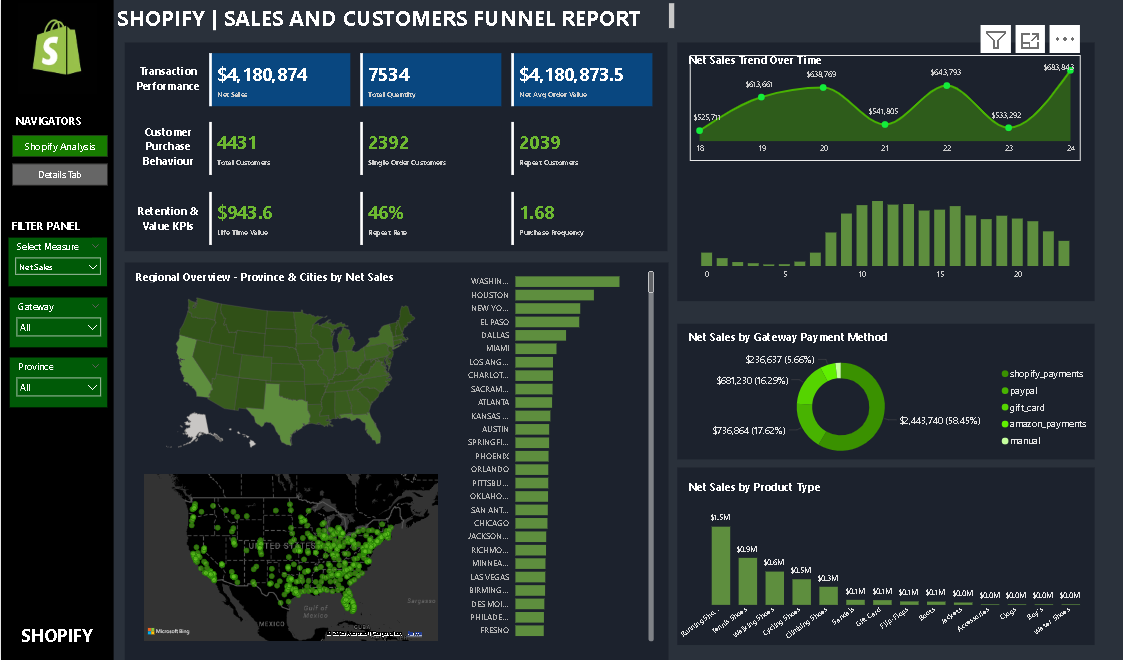

This screenshot's page, from the dashboard's own definition file:
{"tool":"powerbi","page":{"name":"Shopify Analysis","canvas":[1700,1000],"ordinal":0},"visuals":[{"type":"shape","box":[0,0,170,1000.5],"z":0},{"type":"textbox","box":[169.2,0,851.2,50.3],"z":1000},{"type":"shape","box":[186,63.7,819.4,315],"z":2000},{"type":"cardVisual","fields":{"Data":["shopify_sales.Net Sales","shopify_sales.Total Quantity","shopify_sales.Net Avg Order Value"]},"box":[310,75.4,680.3,90.5],"z":3000},{"type":"cardVisual","fields":{"Data":["shopify_sales.Transaction Perf"]},"box":[186,63.7,132.4,98.9],"z":4000},{"type":"cardVisual","fields":{"Data":["shopify_sales.Total Customers","shopify_sales.Single Order Customers","shopify_sales.Repeat Customers"]},"box":[310,180.1,680.3,90.5],"z":5000},{"type":"cardVisual","fields":{"Data":["shopify_sales.Customer Purchase Behaviour"]},"box":[186,147.5,132.4,137.4],"z":6000},{"type":"cardVisual","fields":{"Data":["shopify_sales.Life Time Value","shopify_sales.Repeat Rate","shopify_sales.Purchase Frequency"]},"box":[310,284.9,680.3,90.5],"z":7000},{"type":"cardVisual","fields":{"Data":["shopify_sales.Retention & Value KPIs"]},"box":[187.7,269.8,132.4,108.9],"z":8000},{"type":"shape","box":[186.8,396.2,820.8,603.8],"z":9000},{"type":"shapeMap","fields":{"Value":["shopify_sales.Net Sales"],"Category":["shopify_sales.Billing Address Province"]},"box":[209.5,432.3,455.8,261],"z":10000},{"type":"slicer","fields":{"Values":["Select Measure .Select Measure "]},"box":[11.7,358.6,149.1,73.7],"z":11000},{"type":"map","fields":{"Category":["shopify_sales.Locations"]},"box":[211.1,712.1,454.1,261.4],"z":12000},{"type":"clusteredBarChart","fields":{"Y":["shopify_sales.Net Sales"],"Category":["shopify_sales.CITY"]},"box":[688.7,396.2,301.9,577.4],"z":13000},{"type":"cardVisual","fields":{"Data":["shopify_sales.Map Title"]},"box":[186.4,381.4,470,50.8],"z":14000},{"type":"shape","box":[1020.4,63.7,630,390.4],"z":15000},{"type":"areaChart","fields":{"Y":["shopify_sales.Net Sales"],"Category":["shopify_sales.Invoice Date.Variation.Date Hierarchy.Day"]},"box":[1040.6,83.8,589.8,159.2],"z":16000},{"type":"columnChart","fields":{"Y":["shopify_sales.Net Sales"],"Category":["shopify_sales.HOUR"]},"box":[1050.6,264.7,568,167.6],"z":17000},{"type":"cardVisual","fields":{"Data":["shopify_sales.Trend Title"]},"box":[1020.4,53.6,335.1,60.3],"z":18000},{"type":"shape","box":[1020.4,489.3,630,205],"z":19000},{"type":"donutChart","fields":{"Y":["shopify_sales.Net Sales"],"Category":["shopify_sales.Gateway"]},"box":[1020.4,524.5,630,179.3],"z":20000},{"type":"cardVisual","fields":{"Data":["shopify_sales.Gateway Title"]},"box":[1020.4,470.8,418.9,60.3],"z":21000},{"type":"shape","box":[1020.4,705.4,630,268.1],"z":22000},{"type":"columnChart","fields":{"Y":["shopify_sales.Net Sales"],"Category":["shopify_sales.Product Type"]},"box":[1020.4,760.7,630,217.8],"z":23000},{"type":"cardVisual","fields":{"Data":["shopify_sales.Product Title"]},"box":[1020.4,698.7,418.9,60.3],"z":24000},{"type":"image","box":[13.4,0,144.1,147.5],"z":25000},{"type":"slicer","fields":{"Values":["shopify_sales.Gateway"]},"box":[13.4,449.1,147.5,75.4],"z":26000},{"type":"slicer","fields":{"Values":["shopify_sales.Billing Address Province"]},"box":[13.4,539.5,147.5,75.4],"z":27000},{"type":"pageNavigator","box":[16.8,204.4,144.1,77.1],"z":28000},{"type":"textbox","box":[16.8,165.9,120.6,36.9],"z":29000},{"type":"textbox","box":[11.7,325.1,125.7,33.5],"z":30000},{"type":"textbox","box":[25.1,936.7,135.7,63.7],"z":31000}]}

Visuals, with their boxes on the page's 1700x1000 design canvas (x1, y1, x2, y2). These are canvas units, not pixel positions in the 1123x660 screenshot, which may show the page scaled, cropped or inside an application window:
shape: 0,0,170,1000
textbox: 169,0,1020,50
shape: 186,64,1005,379
cardVisual - shopify_sales.Net Sales x shopify_sales.Total Quantity: 310,75,990,166
cardVisual - shopify_sales.Transaction Perf: 186,64,318,163
cardVisual - shopify_sales.Total Customers x shopify_sales.Single Order Customers: 310,180,990,271
cardVisual - shopify_sales.Customer Purchase Behaviour: 186,148,318,285
cardVisual - shopify_sales.Life Time Value x shopify_sales.Repeat Rate: 310,285,990,375
cardVisual - shopify_sales.Retention & Value KPIs: 188,270,320,379
shape: 187,396,1008,1000
shapeMap - shopify_sales.Net Sales x shopify_sales.Billing Address Province: 210,432,665,693
slicer - Select Measure .Select Measure : 12,359,161,432
map - shopify_sales.Locations: 211,712,665,974
clusteredBarChart - shopify_sales.Net Sales x shopify_sales.CITY: 689,396,991,974
cardVisual - shopify_sales.Map Title: 186,381,656,432
shape: 1020,64,1650,454
areaChart - shopify_sales.Net Sales x shopify_sales.Invoice Date.Variation.Date Hierarchy.Day: 1041,84,1630,243
columnChart - shopify_sales.Net Sales x shopify_sales.HOUR: 1051,265,1619,432
cardVisual - shopify_sales.Trend Title: 1020,54,1356,114
shape: 1020,489,1650,694
donutChart - shopify_sales.Net Sales x shopify_sales.Gateway: 1020,524,1650,704
cardVisual - shopify_sales.Gateway Title: 1020,471,1439,531
shape: 1020,705,1650,974
columnChart - shopify_sales.Net Sales x shopify_sales.Product Type: 1020,761,1650,978
cardVisual - shopify_sales.Product Title: 1020,699,1439,759
image: 13,0,158,148
slicer - shopify_sales.Gateway: 13,449,161,524
slicer - shopify_sales.Billing Address Province: 13,540,161,615
pageNavigator: 17,204,161,282
textbox: 17,166,137,203
textbox: 12,325,137,359
textbox: 25,937,161,1000
